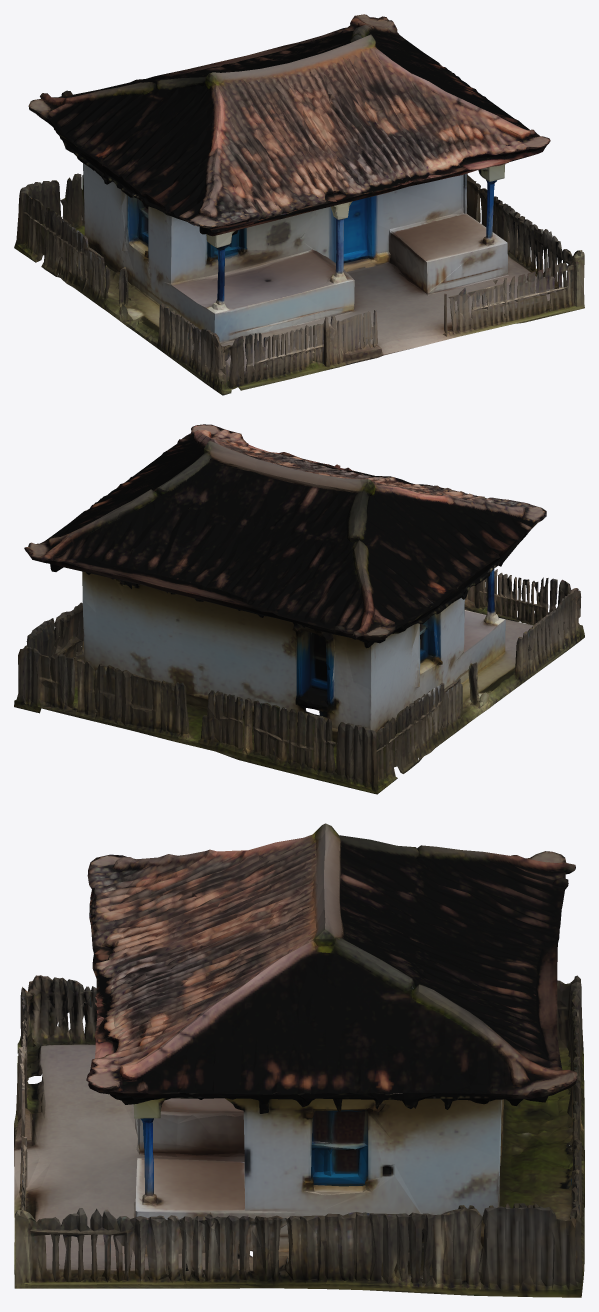
The model's file is Indian House.fbx.
The picture shows the model from 3 angles, top to bottom: view 1: azimuth 30°, elevation 25°; view 2: azimuth 150°, elevation 25°; view 3: azimuth 270°, elevation 25°; orthographic projection. The views are drawn at different scales.
Visible parts, largest first — view 1: Indian House; view 2: Indian House; view 3: Indian House.
Part boxes in pixels (x1,y1,x2,y2): Indian House: [14, 14, 584, 395]; Indian House: [14, 424, 584, 794]; Indian House: [14, 823, 584, 1297].
Bounding box in the file's own units: 732 × 426 × 731.
1 material, 1 textured.
